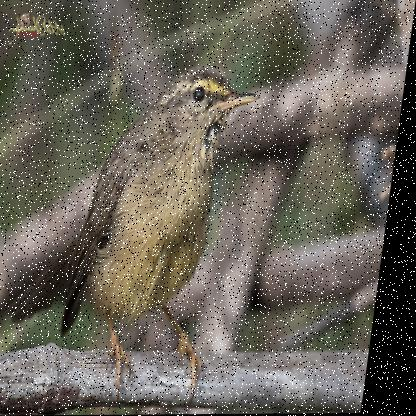Burung: (6, 65, 269, 399)
